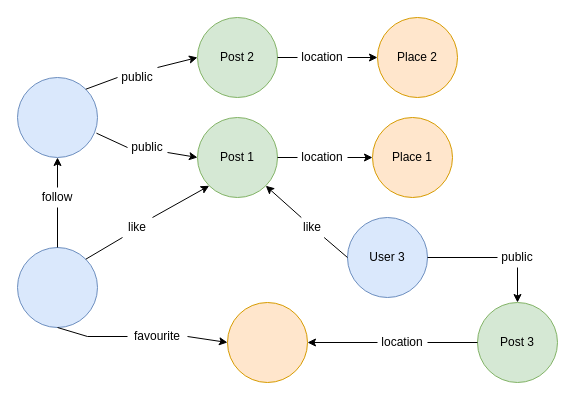
Some shapes in this 575 by 400 pixel diagram are drawn without their labels. The centre of each missing label's shape, as x and y in pixels:
"Place 3" belongs at point (267, 342).
"User 1" belongs at point (57, 117).
"User 2" belongs at point (57, 287).
